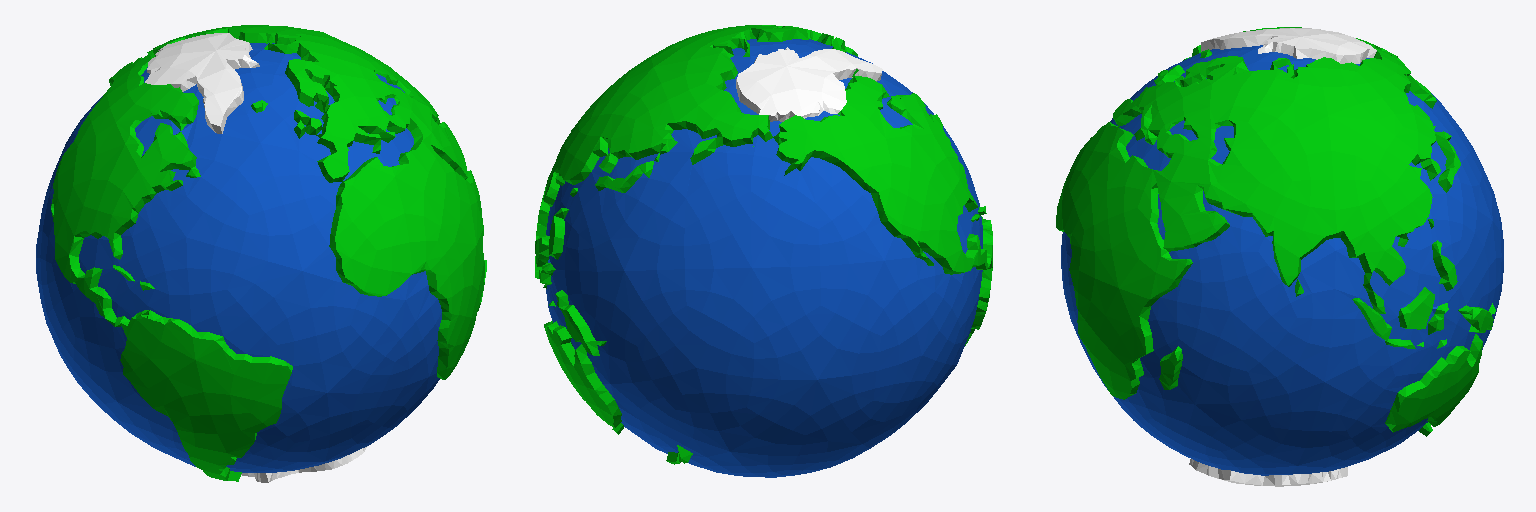
File: earth.obj
3 renders of one model, left to right at view 1: azimuth 30°, elevation 25°; view 2: azimuth 150°, elevation 25°; view 3: azimuth 270°, elevation 25°, orthographic.
Bounding box in the file's own units: 5.55 × 5.69 × 5.55.